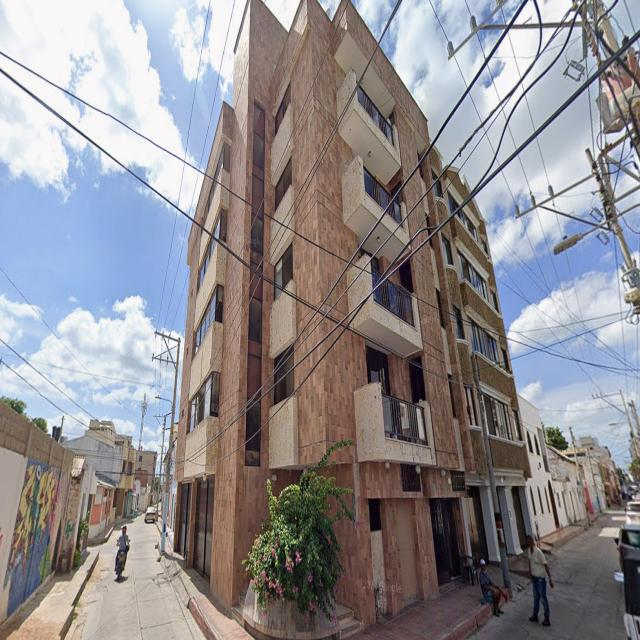Casa: (173, 0, 533, 636), (64, 419, 137, 518), (518, 394, 560, 537), (565, 427, 619, 512), (547, 447, 586, 527), (88, 473, 114, 538), (134, 451, 156, 512)
